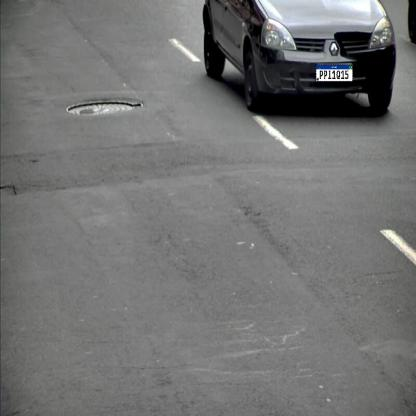PlacaM: (316, 64, 353, 82)
